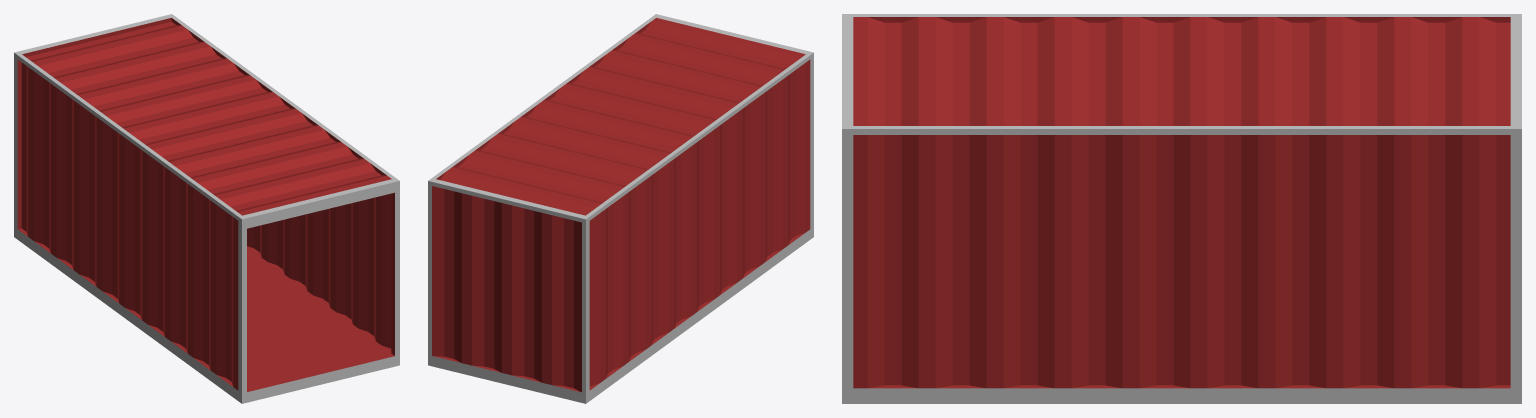
The model's file is Prop_Junk_Cargo_Shipping_Container_01.FBX.
The picture shows the model from 3 angles, left to right: view 1: azimuth 30°, elevation 25°; view 2: azimuth 150°, elevation 25°; view 3: azimuth 270°, elevation 25°; orthographic projection. The views are drawn at different scales.
Visible parts, largest first — view 1: Prop_Junk_Cargo_Shipping_Container_01; view 2: Prop_Junk_Cargo_Shipping_Container_01; view 3: Prop_Junk_Cargo_Shipping_Container_01.
Boxes of the visible parts, <box> form: Prop_Junk_Cargo_Shipping_Container_01: <box>14,14,399,403</box>; Prop_Junk_Cargo_Shipping_Container_01: <box>428,14,813,403</box>; Prop_Junk_Cargo_Shipping_Container_01: <box>842,14,1521,403</box>.
Size of the model in its own units: 3038 by 3391 by 7594.
